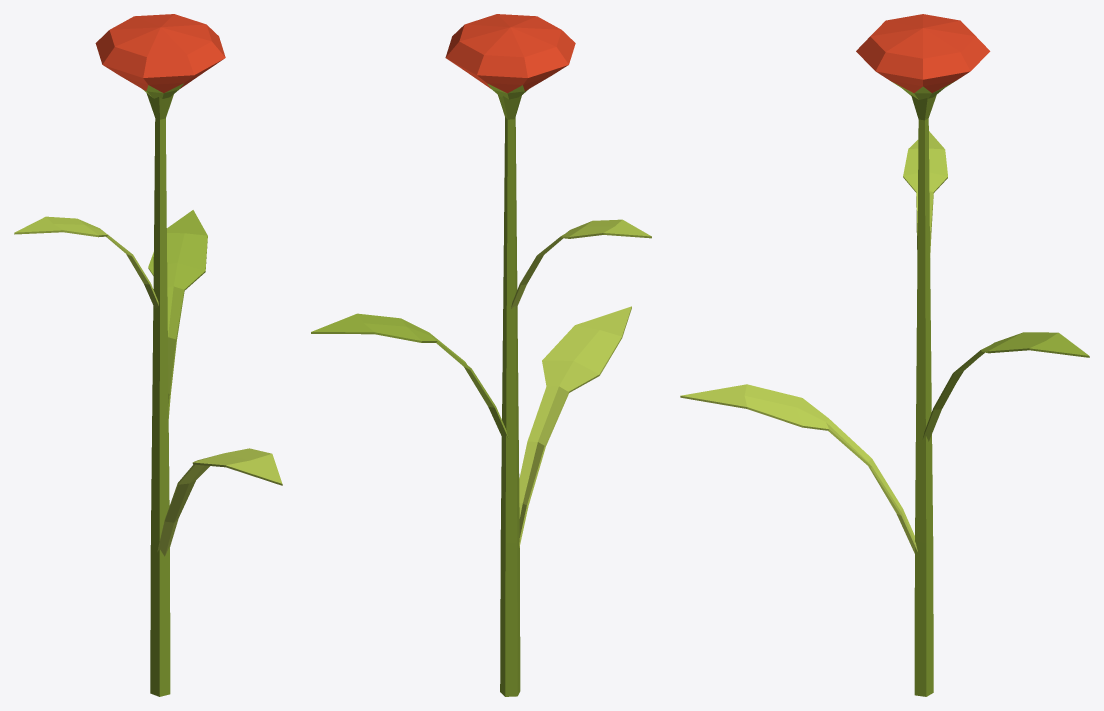
File: NHP_Flower_LP_A2_H70cm_03.fbx
3 renders of one model, left to right at view 1: azimuth 30°, elevation 25°; view 2: azimuth 150°, elevation 25°; view 3: azimuth 270°, elevation 25°, orthographic.
Visible parts, largest first — view 1: NHP_Flower_LP_A2_H70cm_03_LOD0; view 2: NHP_Flower_LP_A2_H70cm_03_LOD0; view 3: NHP_Flower_LP_A2_H70cm_03_LOD0.
Part boxes in pixels (x1,y1,x2,y2): NHP_Flower_LP_A2_H70cm_03_LOD0: (14,14,282,696); NHP_Flower_LP_A2_H70cm_03_LOD0: (311,14,651,696); NHP_Flower_LP_A2_H70cm_03_LOD0: (680,14,1089,696).
Size of what is drawn, in the model's own units: 0.29 by 0.7095 by 0.3962.
